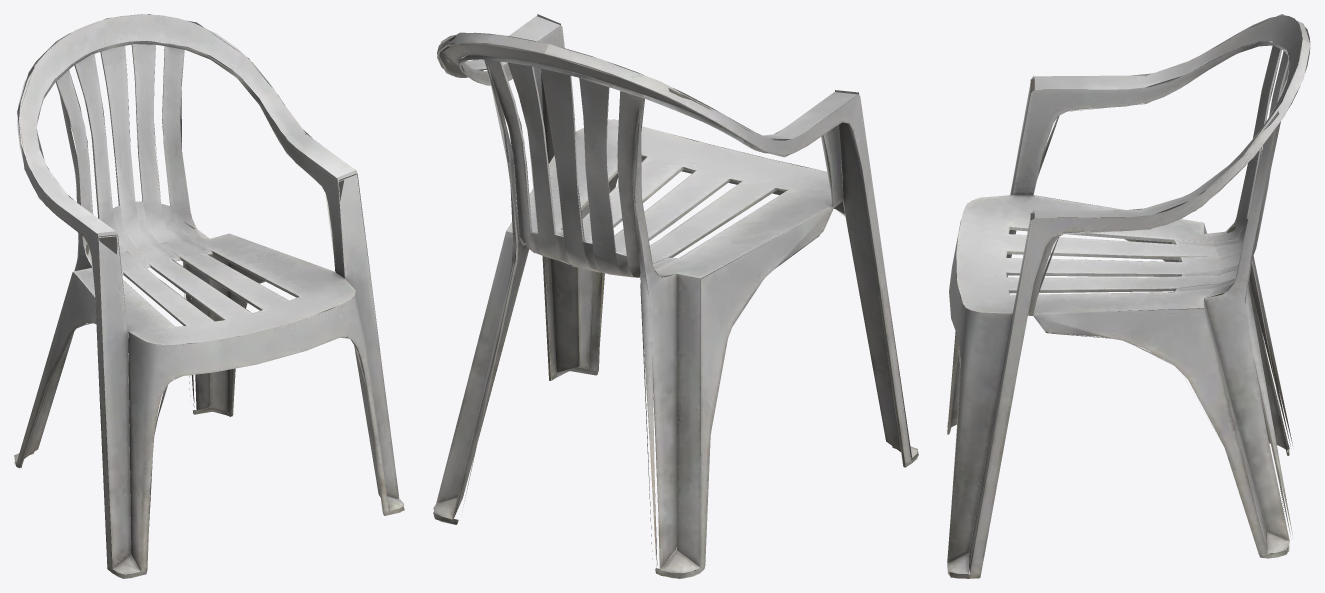
The model's file is ph_plastic_monobloc_chair_01.glb.
3 views of the same model, side by side, from view 1: azimuth 30°, elevation 25°; view 2: azimuth 150°, elevation 25°; view 3: azimuth 270°, elevation 25° (orthographic). The views are drawn at different scales.
Parts seen in each view (by area): view 1: plastic_monobloc_chair_01; view 2: plastic_monobloc_chair_01; view 3: plastic_monobloc_chair_01.
Boxes of the visible parts, x1=… form: plastic_monobloc_chair_01: x1=14, y1=14, x2=404, y2=578; plastic_monobloc_chair_01: x1=433, y1=14, x2=918, y2=578; plastic_monobloc_chair_01: x1=947, y1=14, x2=1310, y2=578.
Bounding box in the file's own units: 0.6455 × 0.8806 × 0.6282.
1 material, 1 textured.
